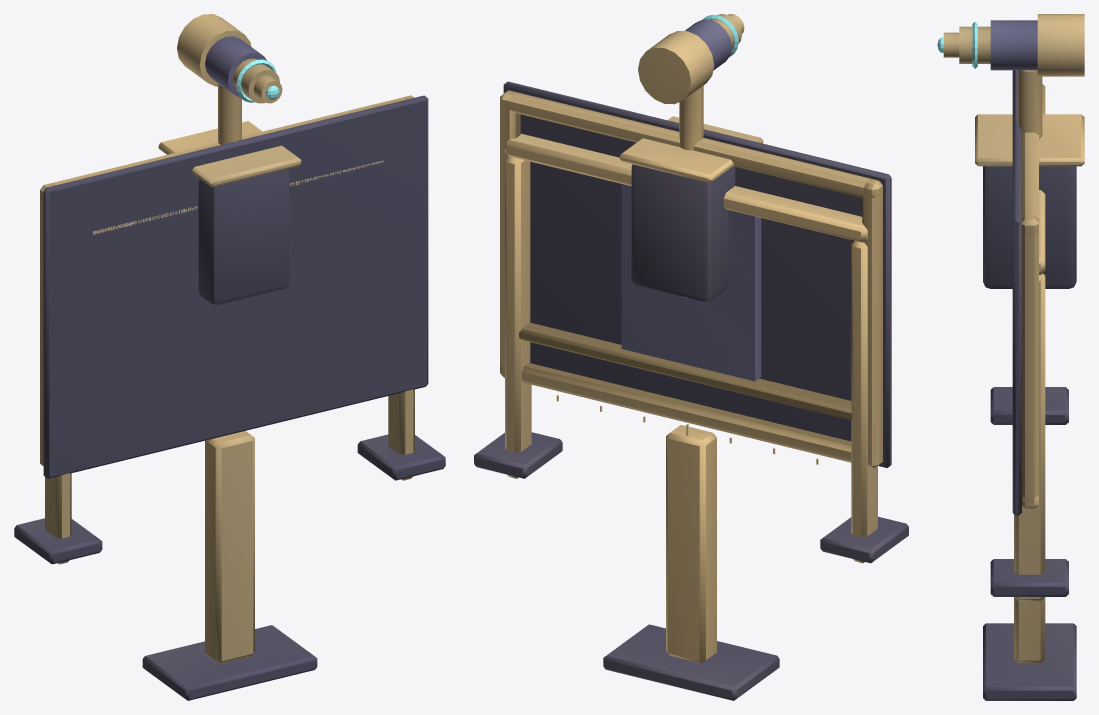
File: double_slit.glb
The picture shows the model from 3 angles, left to right: view 1: azimuth 30°, elevation 25°; view 2: azimuth 150°, elevation 25°; view 3: azimuth 270°, elevation 25°; orthographic projection. The views are drawn at different scales.
Parts seen in each view (by area): view 1: screen_frame, gun, barrier_frame; view 2: screen_frame, barrier_frame, gun, side, mid; view 3: gun, screen_frame, barrier_frame.
Part boxes in pixels (bbox=[...]): screen_frame: bbox=[40, 95, 428, 700]; gun: bbox=[158, 14, 301, 304]; barrier_frame: bbox=[14, 160, 445, 564]; screen_frame: bbox=[500, 81, 891, 700]; barrier_frame: bbox=[474, 133, 908, 563]; gun: bbox=[619, 14, 763, 301]; side: bbox=[623, 184, 760, 379]; mid: bbox=[621, 184, 761, 381]; gun: bbox=[937, 14, 1084, 288]; screen_frame: bbox=[983, 70, 1076, 700]; barrier_frame: bbox=[990, 84, 1068, 601].
Bounding box in the file's own units: 3 × 4.6 × 0.94.
